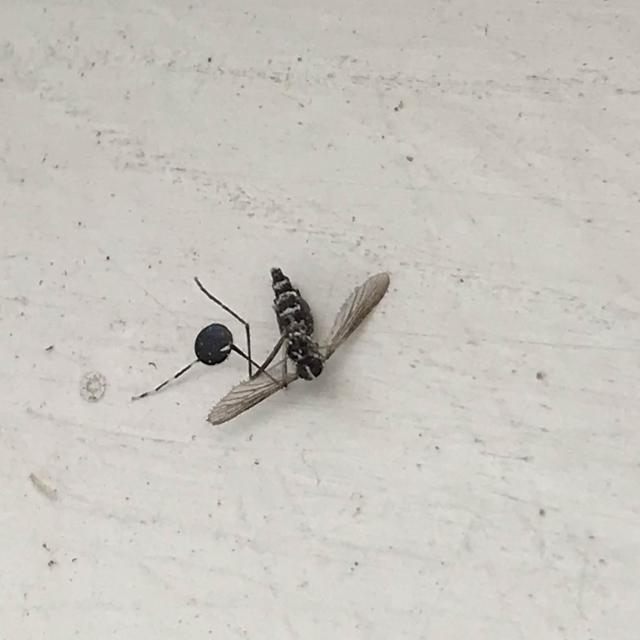albopictus: (128, 250, 392, 432)
